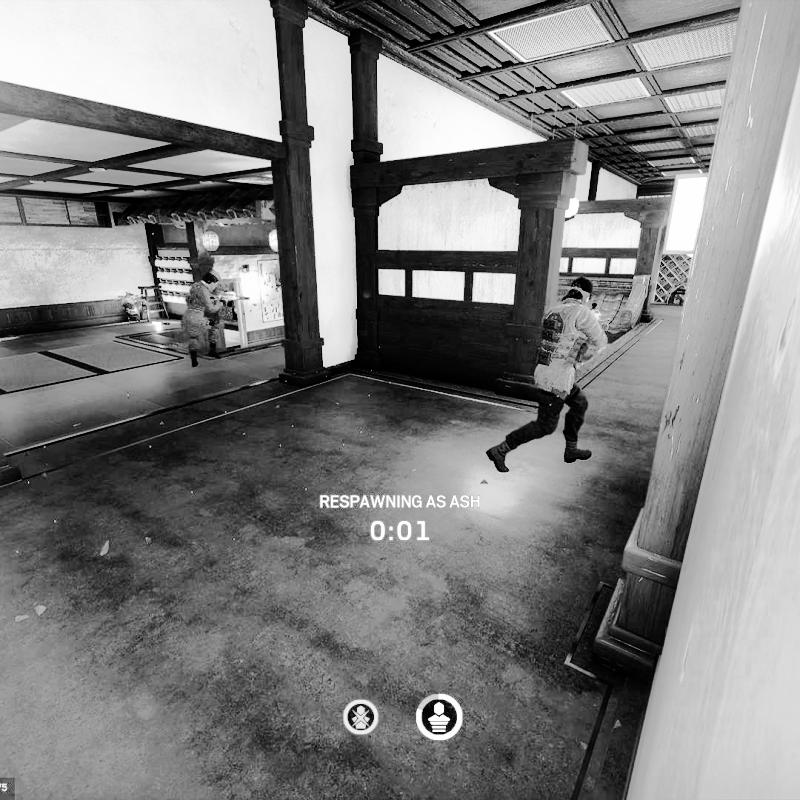Character: (483, 275, 613, 475), (180, 269, 253, 369)
Head: (568, 277, 595, 303), (202, 269, 222, 289)
